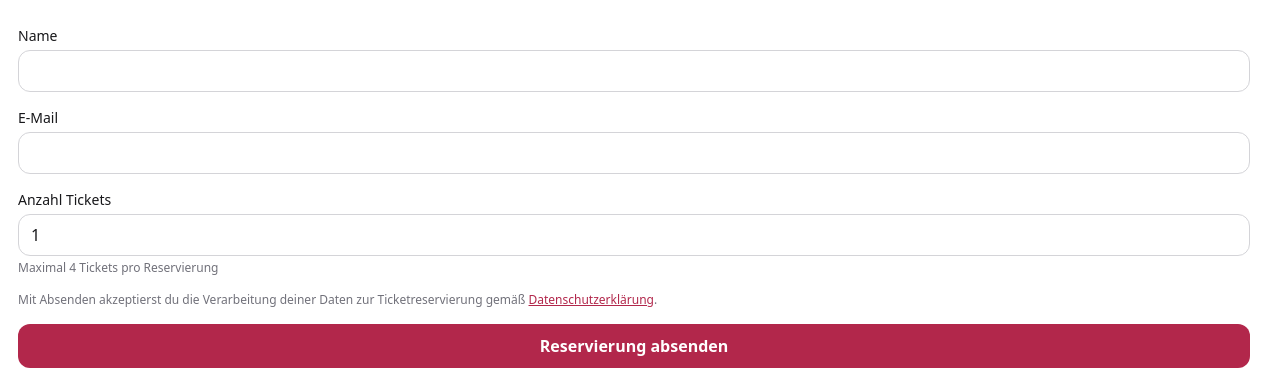
Test: ReservationForm › success state › should not show form after success
Step 1. Type "Max" into the field labelled "Name" → (634, 71), box [18,50,1250,92]
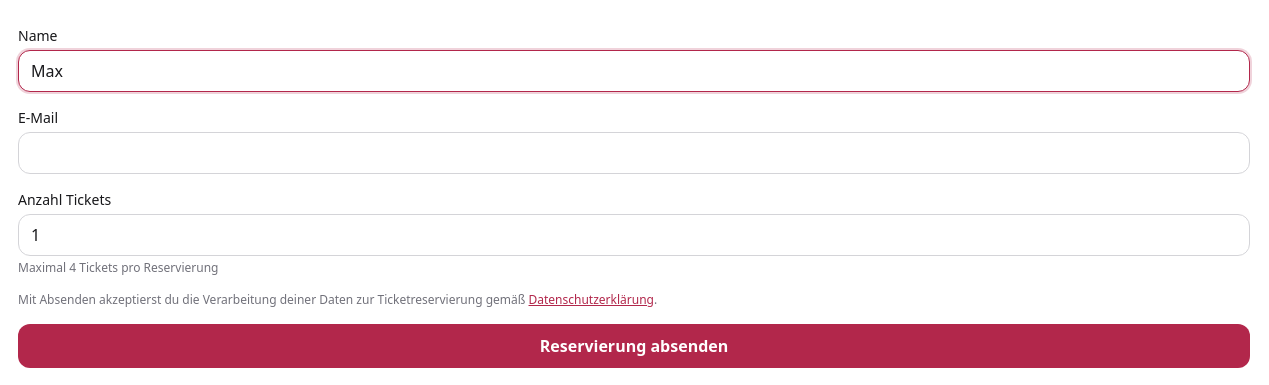
Step 2. Type "max@example.com" into the field labelled "E-Mail" → (634, 153), box [18,132,1250,174]
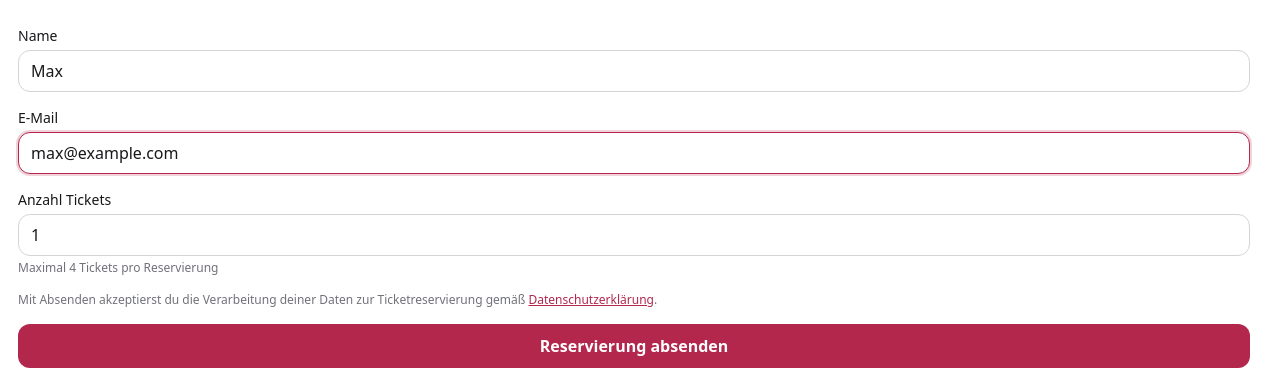
Step 3. Click the button "Reservierung absenden" → click(634, 346), box [18,324,1250,368]
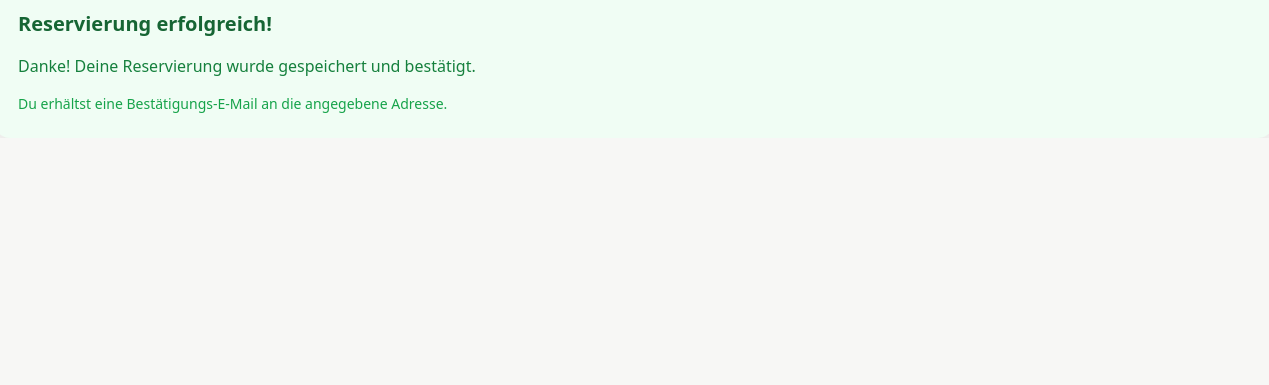
Now the label labelled "Name" is gone
